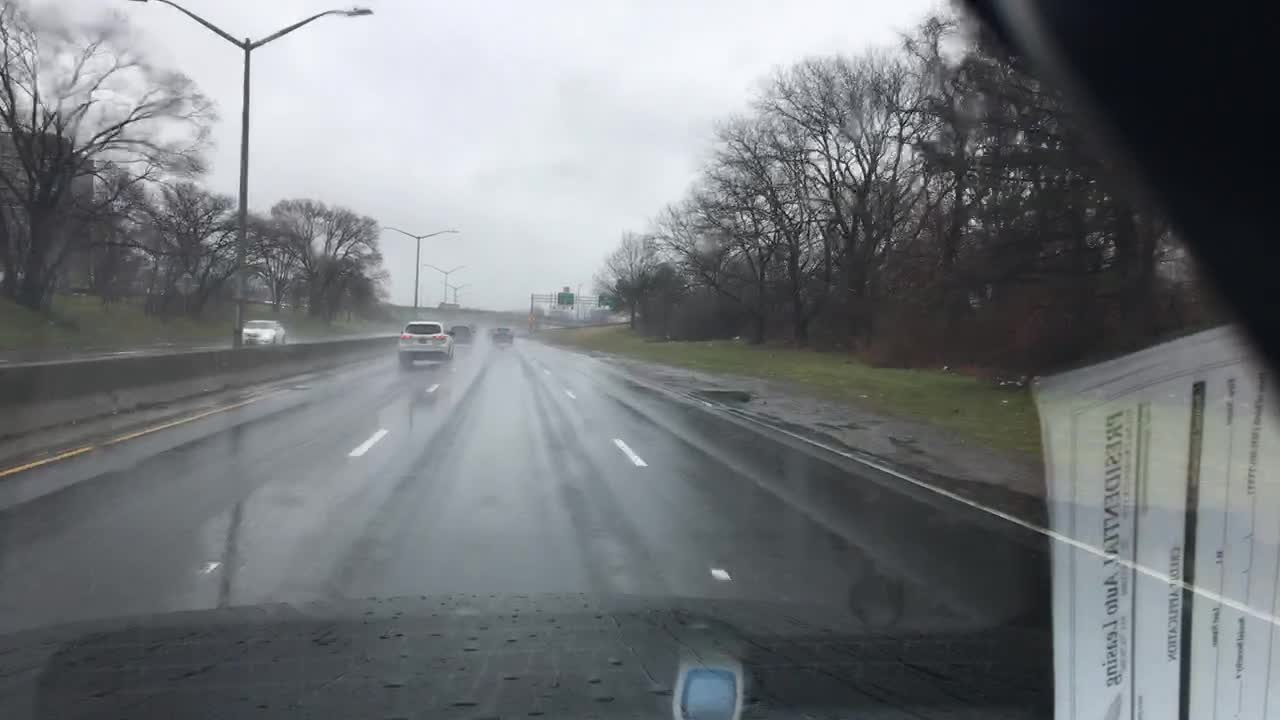car: (399, 321, 454, 367), (243, 318, 287, 344), (450, 324, 472, 347), (490, 327, 514, 343), (468, 324, 478, 334)
traffic sign: (598, 294, 619, 306), (558, 291, 574, 305), (528, 313, 536, 323)
